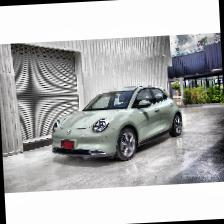EV: (48, 81, 187, 164)
